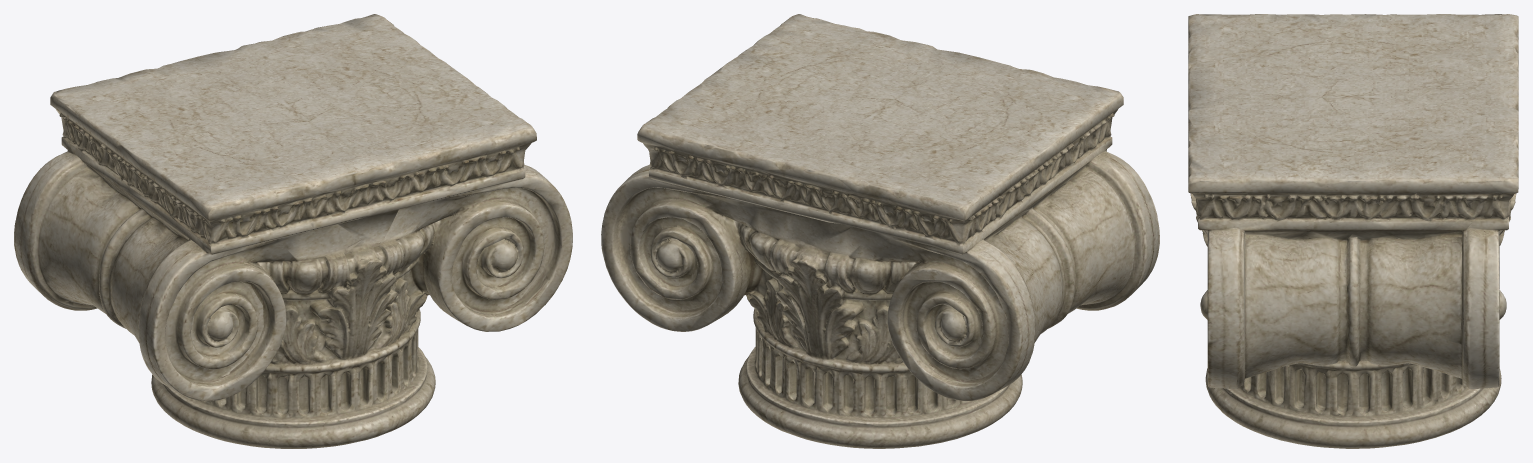
Rendered from WF_GreekRelics_IonicCapital.fbx.
The picture shows the model from 3 angles, left to right: view 1: azimuth 30°, elevation 25°; view 2: azimuth 150°, elevation 25°; view 3: azimuth 270°, elevation 25°; orthographic projection. The views are drawn at different scales.
Visible parts, largest first — view 1: Mesh1.0; view 2: Mesh1.0; view 3: Mesh1.0.
Part boxes in pixels (bbox=[...]): Mesh1.0: bbox=[14, 14, 572, 448]; Mesh1.0: bbox=[601, 14, 1159, 448]; Mesh1.0: bbox=[1188, 14, 1518, 448].
Bounding box in the file's own units: 191 × 123 × 125.
1 material, 1 textured.
